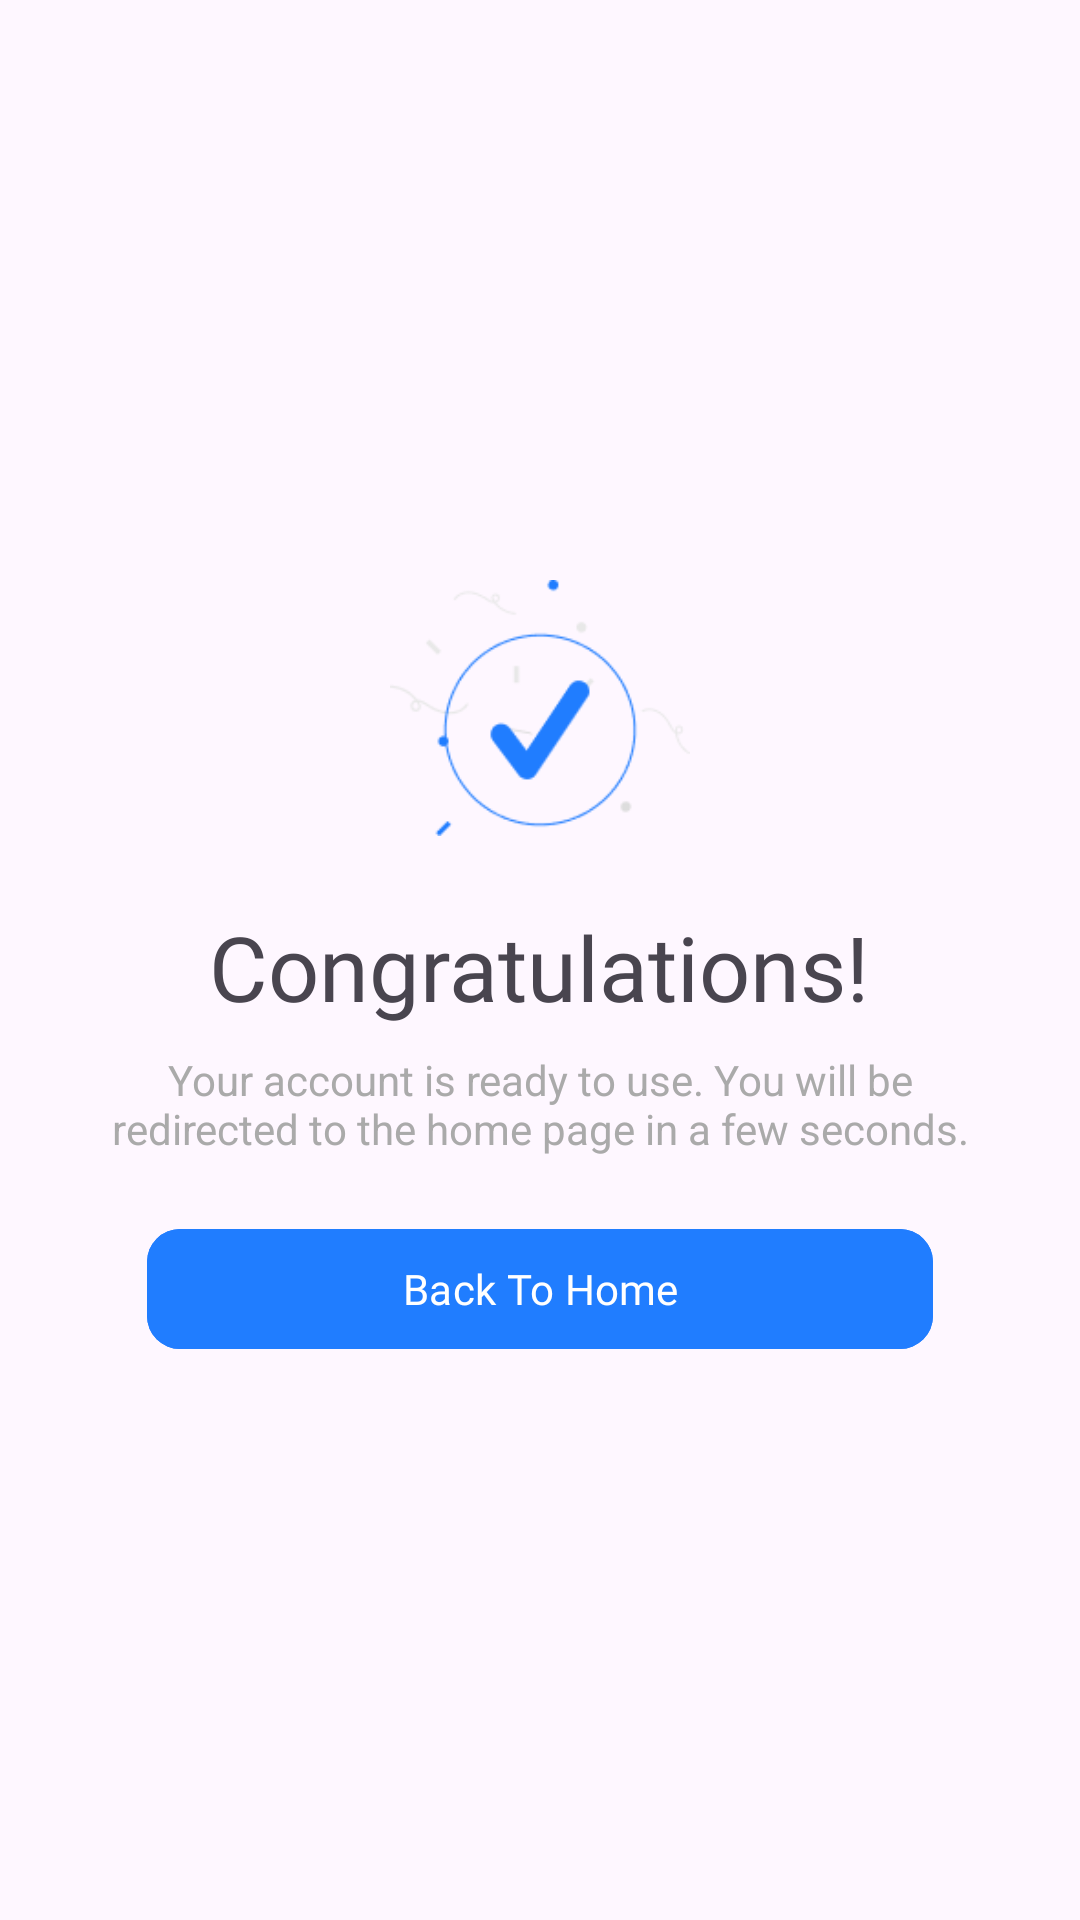

Locate icon controls on the screen. Image size 1080*1920, boxes as (x1, y1, x2, y2).
success illustration: (435, 580, 637, 836)
